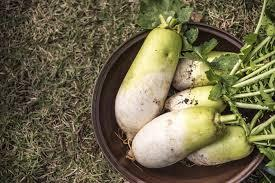radish: (49, 7, 79, 40), (55, 31, 98, 48), (79, 35, 110, 47), (75, 15, 99, 24), (70, 24, 99, 31)
